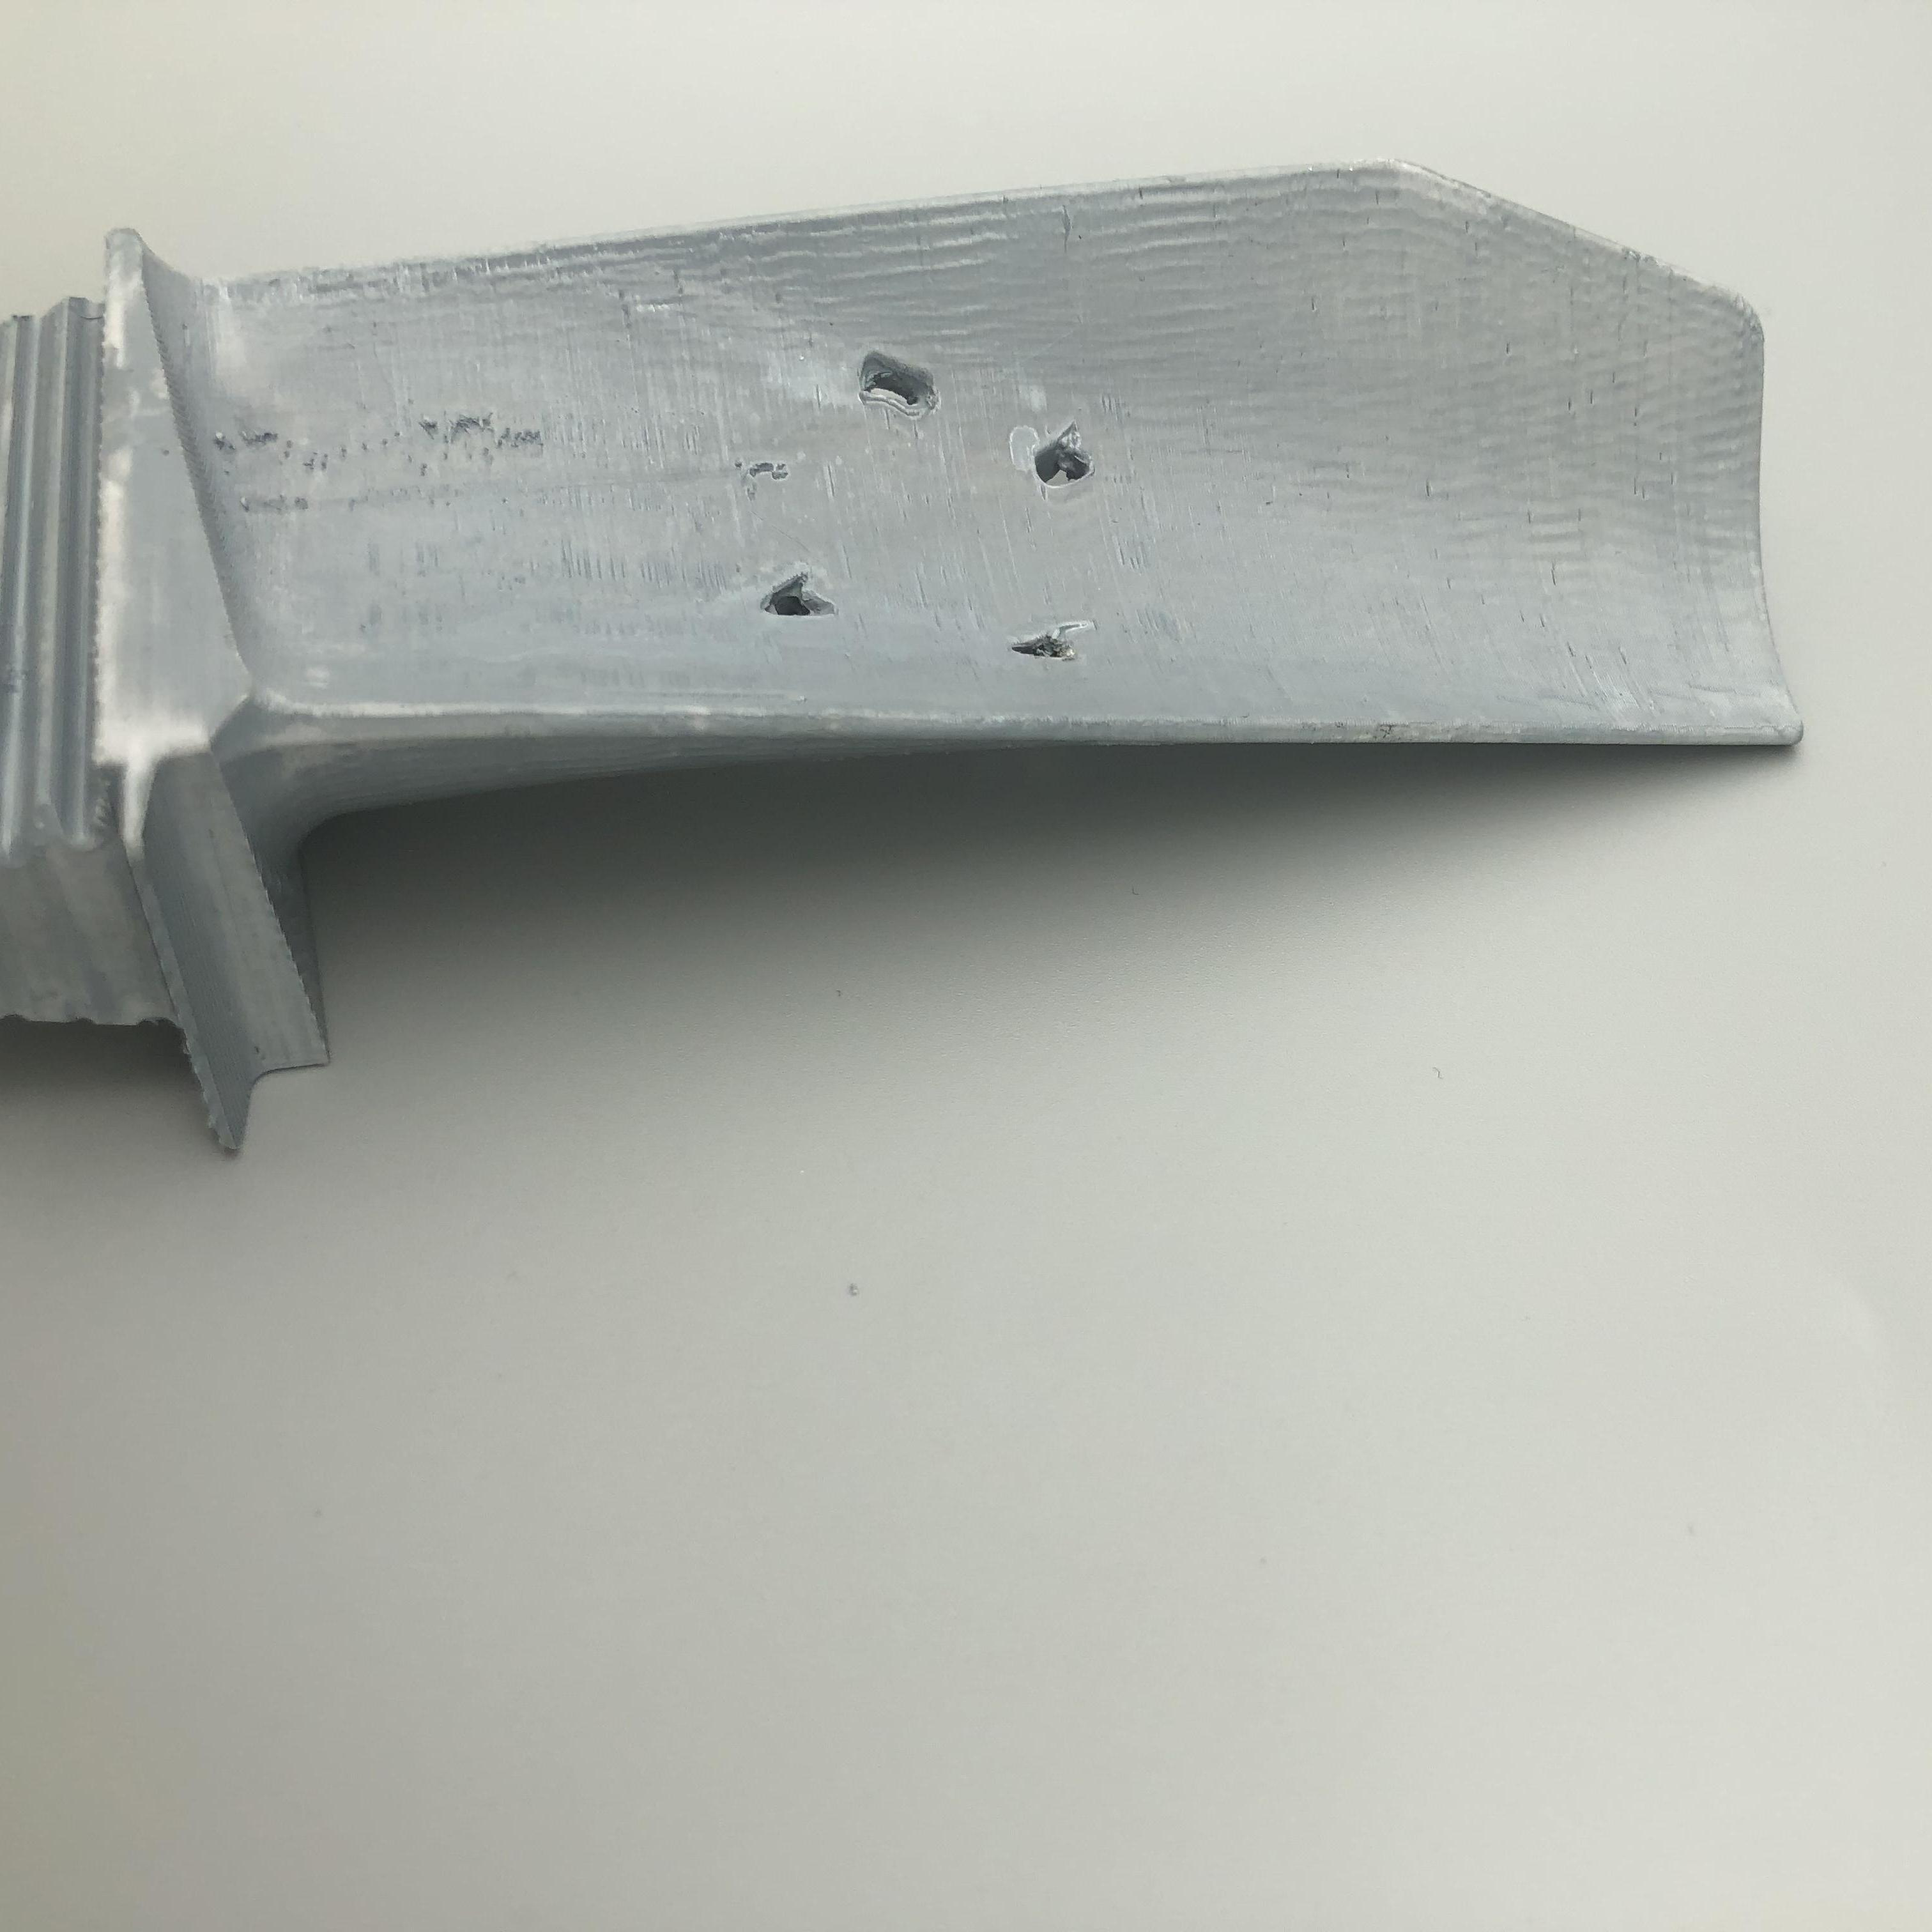breakdown: (757, 354, 1109, 672)
